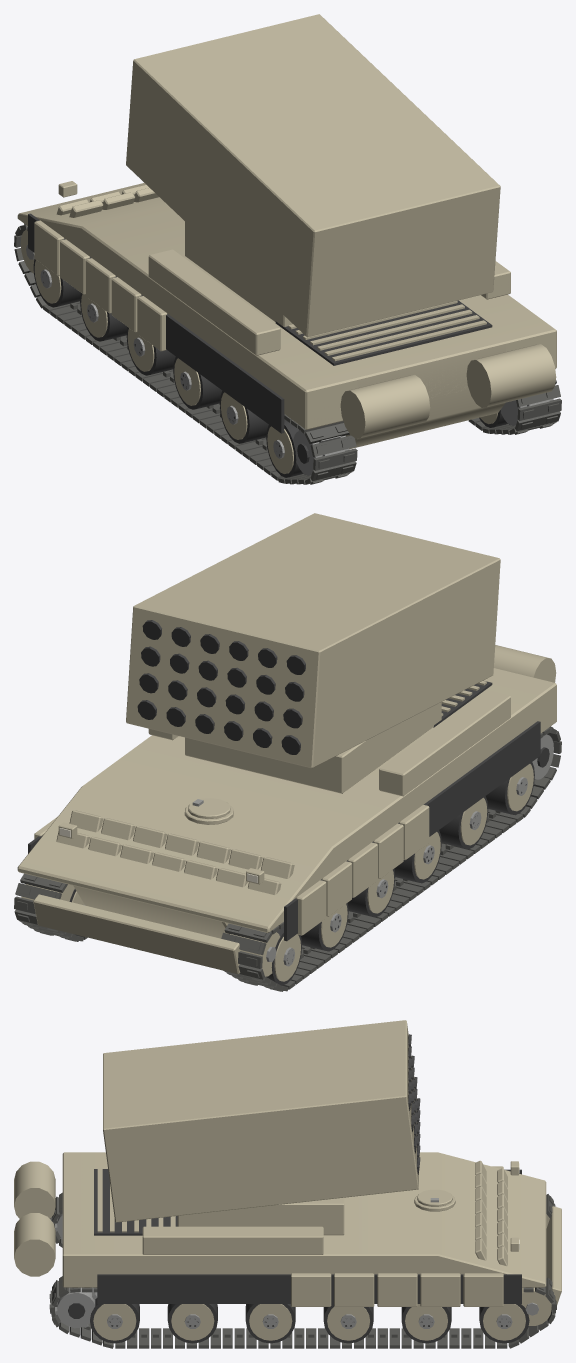
Rendered from rus_mlrs_tos.glb.
3 renders of one model, top to bottom at view 1: azimuth 30°, elevation 25°; view 2: azimuth 150°, elevation 25°; view 3: azimuth 270°, elevation 25°, orthographic. The views are drawn at different scales.
Parts seen in each view (by area): view 1: barrel, body, turret; view 2: body, barrel, turret; view 3: body, barrel, turret.
Boxes of the visible parts, x1,y1,x2,y2 form: barrel: [126, 14, 500, 337]; body: [14, 181, 561, 484]; turret: [185, 221, 292, 326]; body: [14, 645, 561, 991]; barrel: [126, 513, 500, 768]; turret: [185, 702, 441, 793]; body: [14, 1152, 561, 1348]; barrel: [103, 1020, 420, 1222]; turret: [177, 1197, 344, 1235].
Size of the model in its own units: 3.74 by 3.83 by 7.88.
